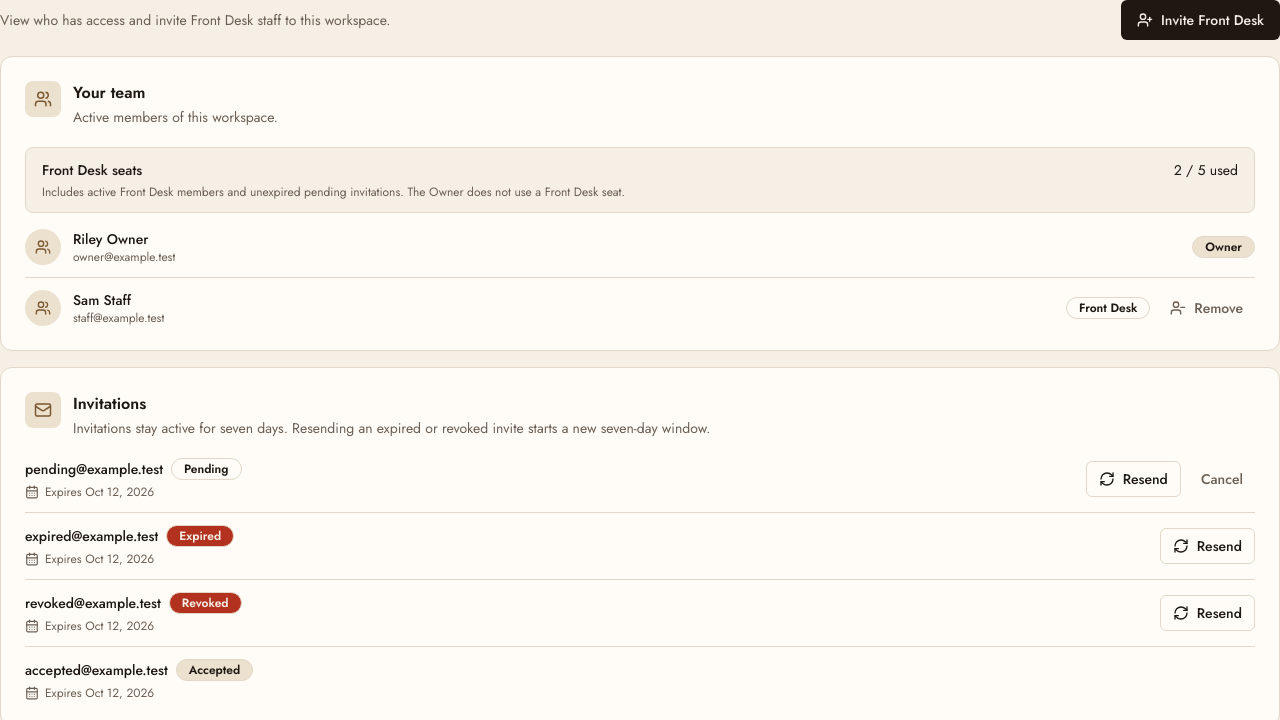
Scenario: MembersSettingsPage › offers Remove only on Front Desk rows and removes once per confirmed intent
Expected: the text "Sam Staff" is shown, [73,290,131,310]
What coordinates should you click on to do the following:
click the button with aria-label "Remove Sam Staff"
I would click on:
 (1207, 308)
Its box is [1158,290,1255,326].
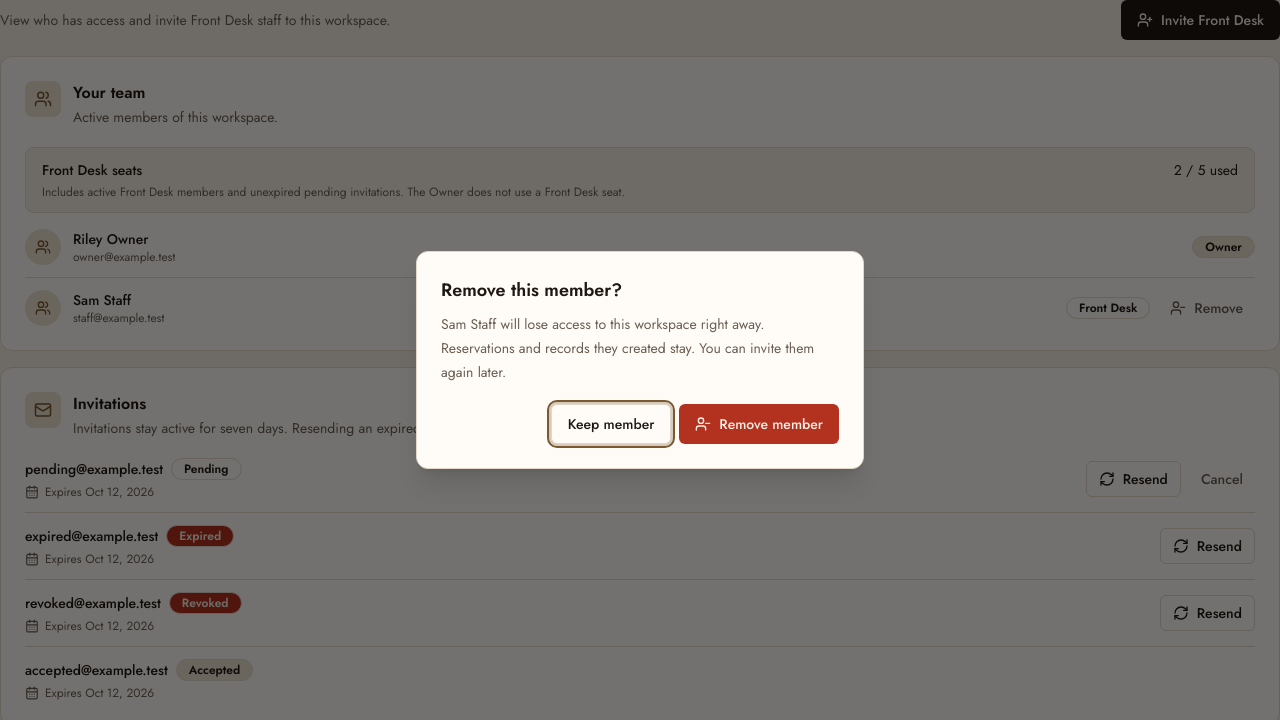
Now the dialog shows "Sam Staff will lose access to this workspace right away", box [416,251,864,469]
What coordinates should you click on to do the following:
click the button "Remove member"
I would click on:
 (759, 424)
Its box is [679,404,839,444].
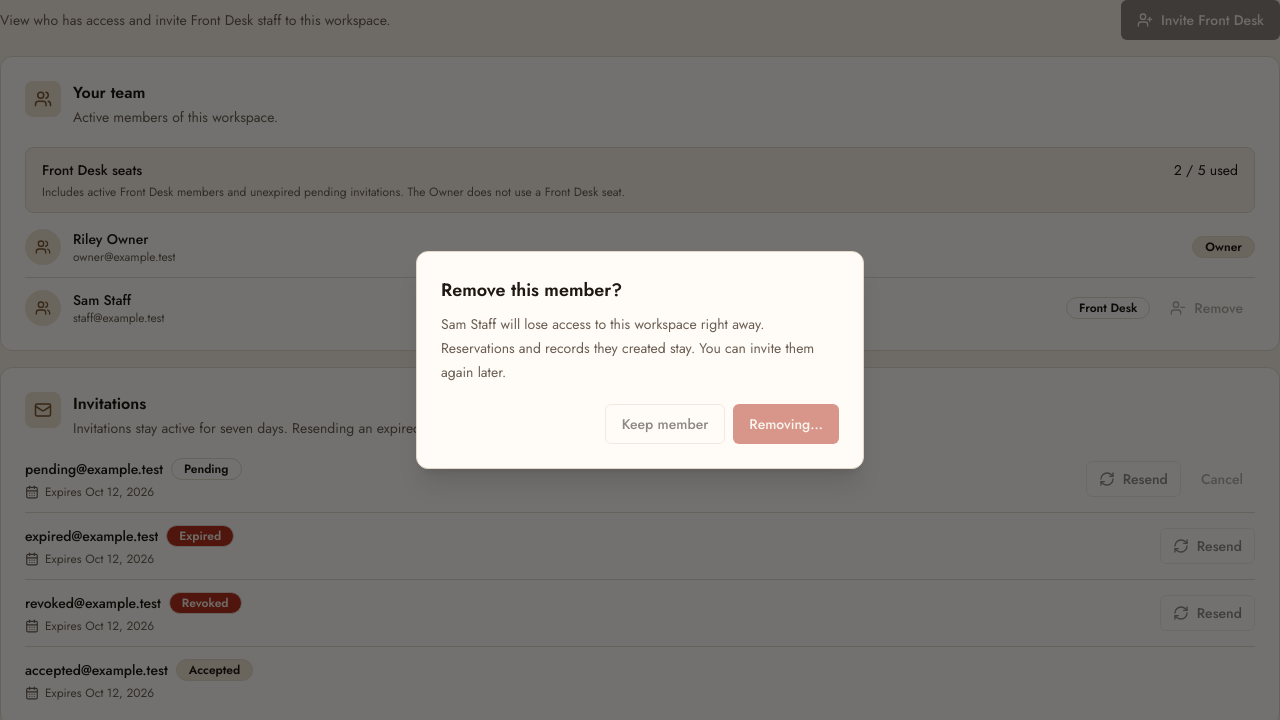
What coordinates should you click on to do the following:
click the button named "Remove member"
I would click on:
 (786, 424)
Its box is [733,404,839,444].
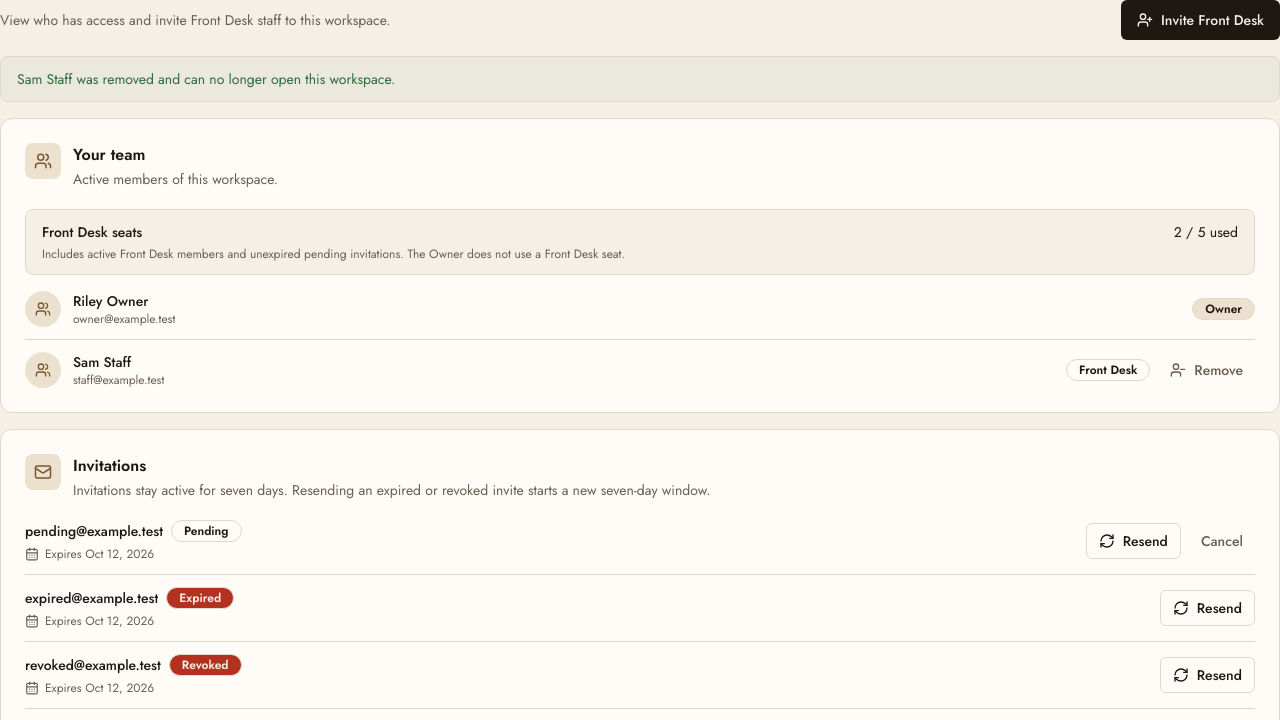
Now the text "Sam Staff was removed and can no longer open this workspace." is shown, box [0,56,1279,102]
